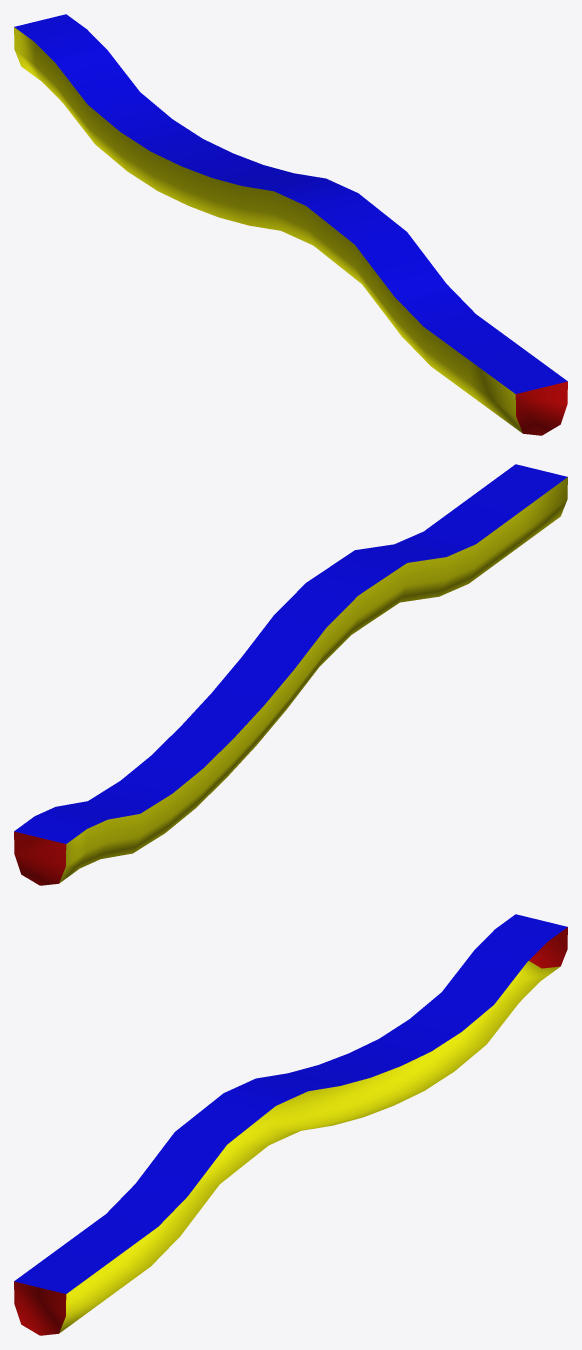
The picture shows the model from 3 angles, top to bottom: view 1: azimuth 30°, elevation 25°; view 2: azimuth 150°, elevation 25°; view 3: azimuth 330°, elevation 25°; orthographic projection.
Visible parts, largest first — view 1: polySurface110; view 2: polySurface110; view 3: polySurface110.
Boxes of the visible parts, bbox=[...] form: polySurface110: bbox=[14, 14, 567, 435]; polySurface110: bbox=[14, 464, 567, 885]; polySurface110: bbox=[14, 914, 567, 1335].
Size of the model in its own units: 23.58 by 47.42 by 392.
